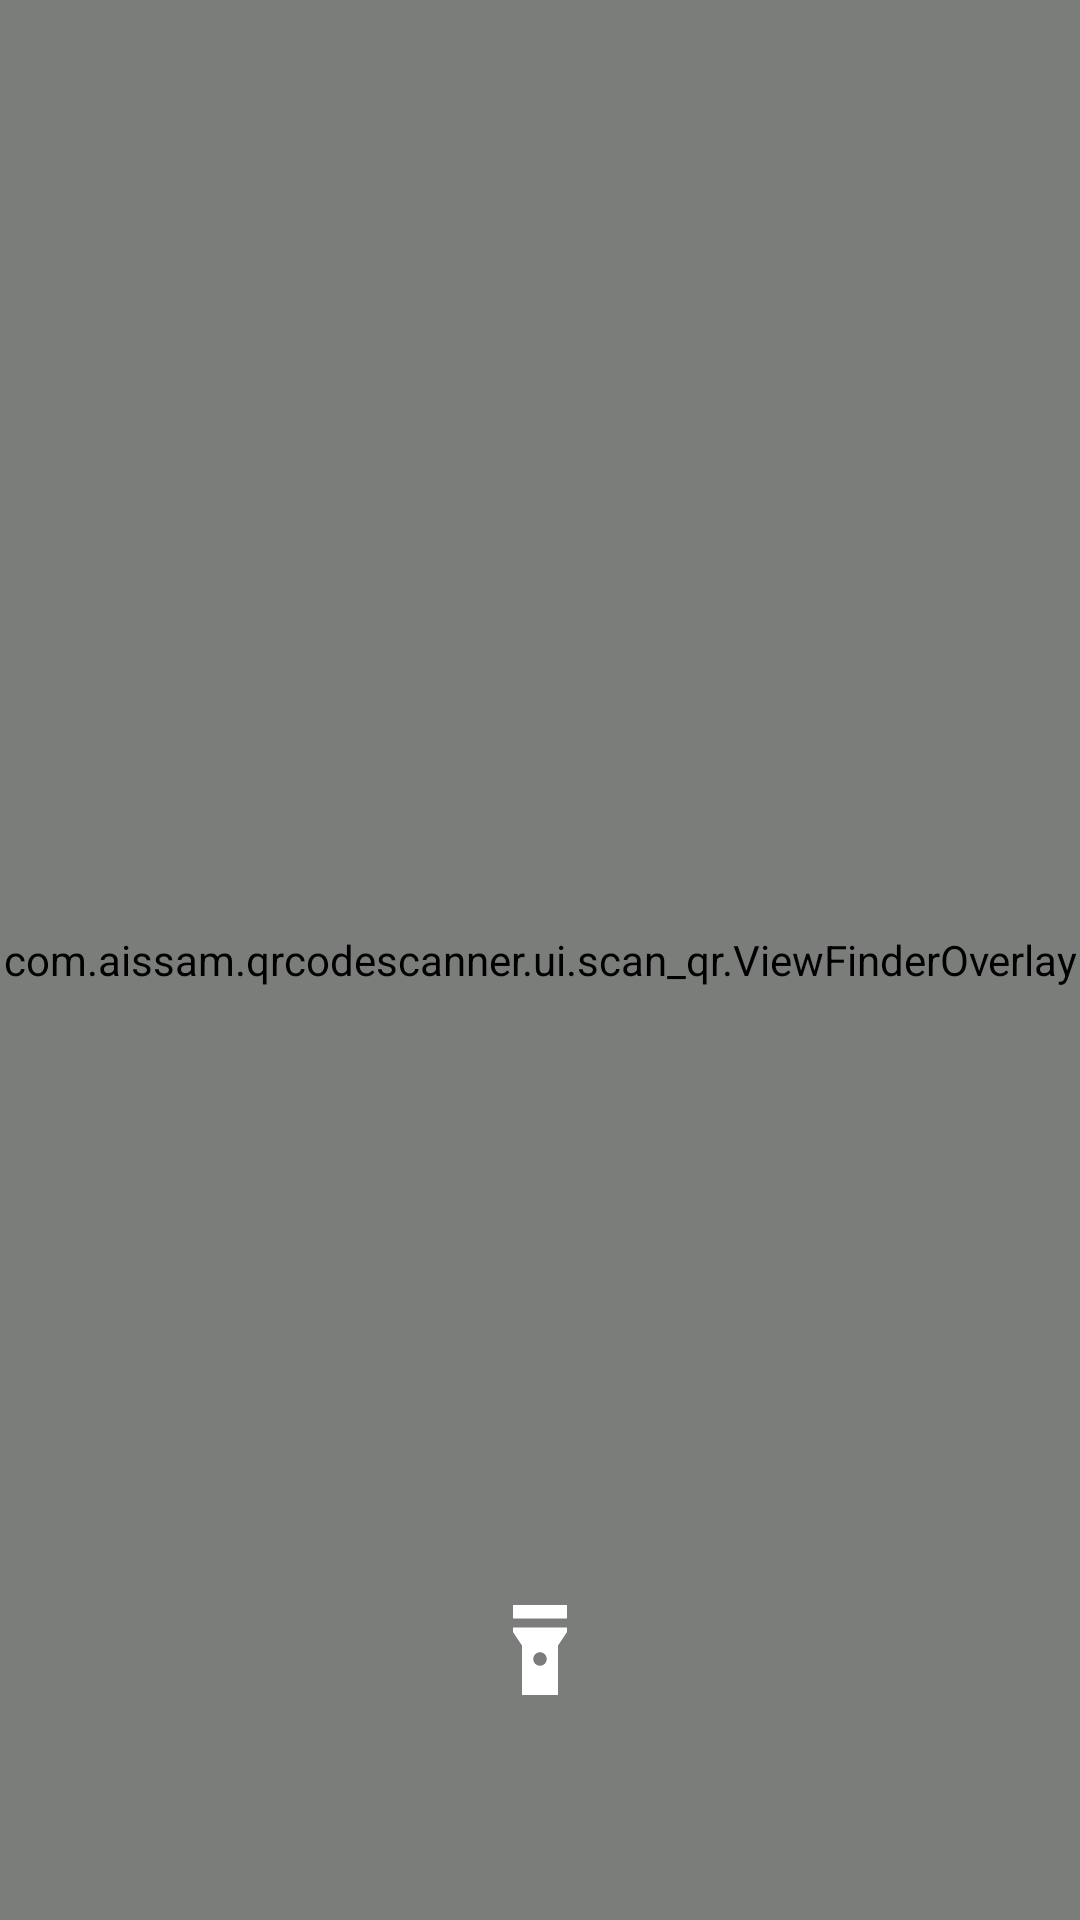

Named icons in this screenshot (1080w x 1920h) and their bounding boxes, (x1, y1, x2, y2):
flashlight on: (513, 1605, 567, 1695)
